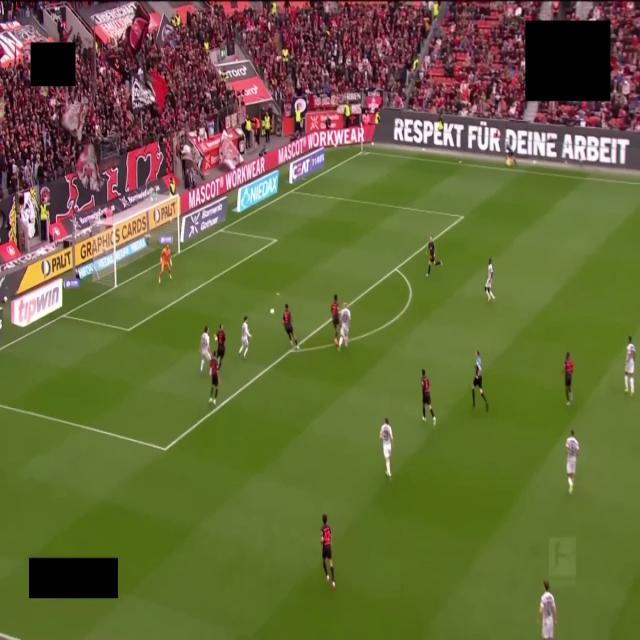ball: (270, 309, 274, 314)
player: (538, 581, 557, 639), (321, 515, 335, 589), (566, 430, 579, 494), (421, 369, 435, 425), (380, 418, 393, 478), (283, 304, 298, 348), (625, 336, 635, 395), (338, 303, 350, 350), (427, 236, 441, 276), (563, 352, 573, 406), (200, 326, 211, 373), (239, 316, 251, 358), (209, 359, 219, 405), (159, 245, 171, 283), (331, 295, 339, 345), (216, 324, 225, 368), (485, 259, 494, 302)
referee: (472, 351, 488, 411)
